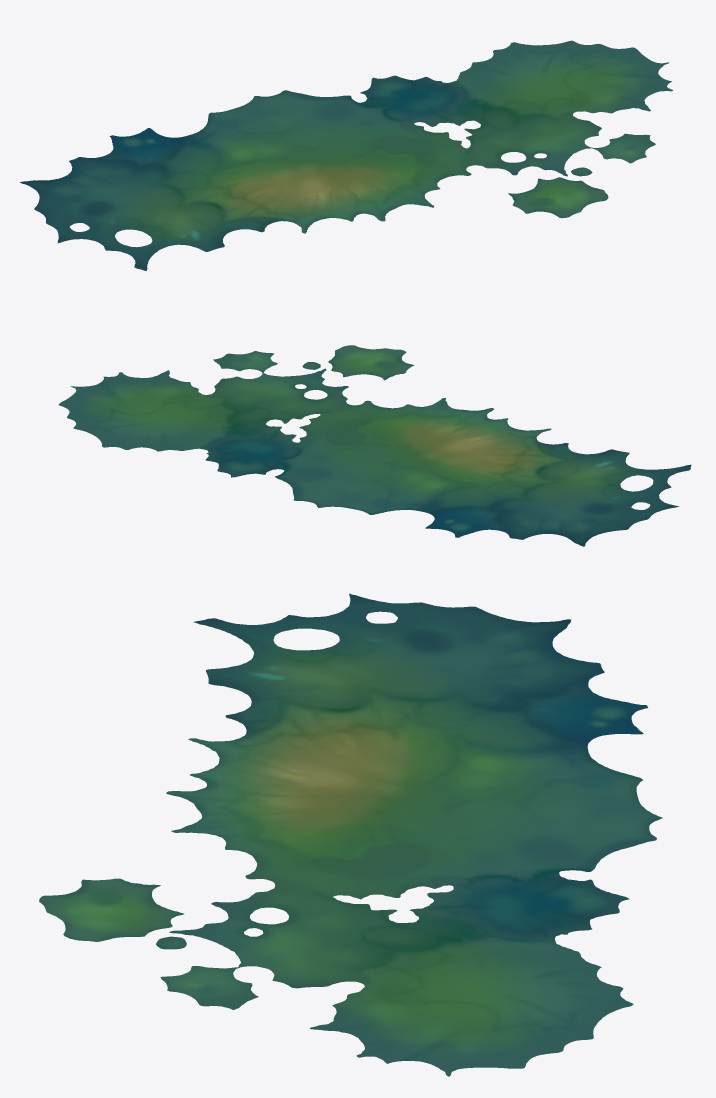
File: h5_caopian_a.FBX
3 renders of one model, top to bottom at view 1: azimuth 30°, elevation 25°; view 2: azimuth 150°, elevation 25°; view 3: azimuth 270°, elevation 25°, orthographic. The views are drawn at different scales.
Parts seen in each view (by area): view 1: h5_caopian_a; view 2: h5_caopian_a; view 3: h5_caopian_a.
Part boxes in pixels (x1,y1,x2,y2): h5_caopian_a: [20, 40, 672, 270]; h5_caopian_a: [58, 345, 691, 546]; h5_caopian_a: [39, 593, 662, 1076].
Bounding box in the file's own units: 2.52 × 0.00616 × 1.46.
Materials: 1 (1 with a texture image).
